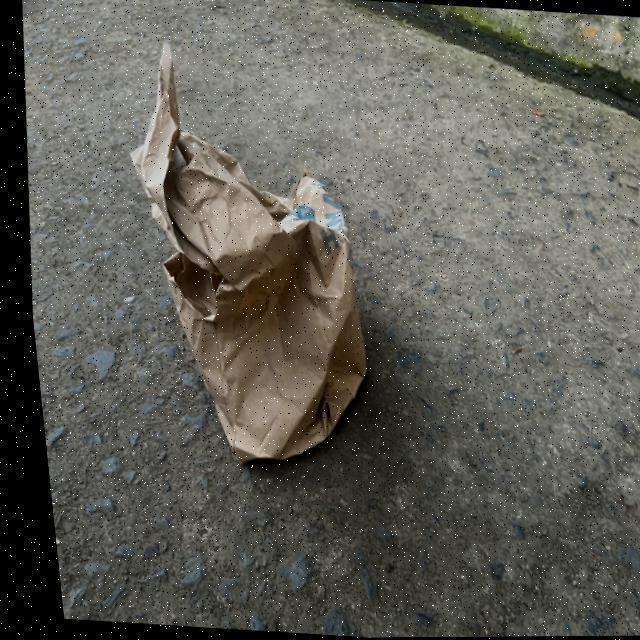Paper_Bag: (101, 38, 386, 476)
